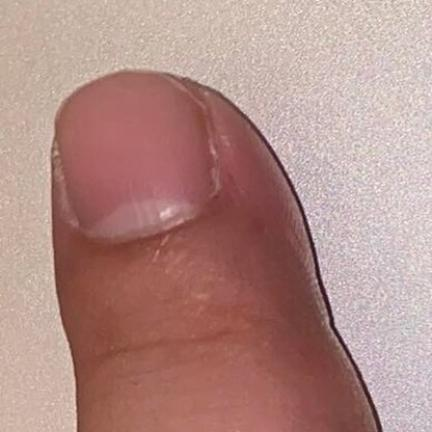Nail: (57, 73, 215, 243)
